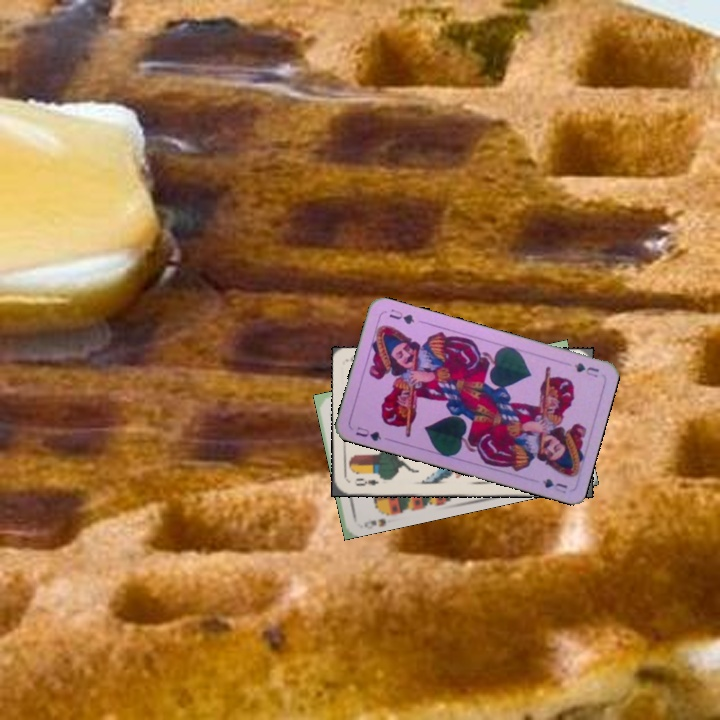EO: (352, 472, 387, 489)
GU: (570, 358, 601, 380), (352, 423, 384, 444)
S9: (360, 505, 396, 530)
